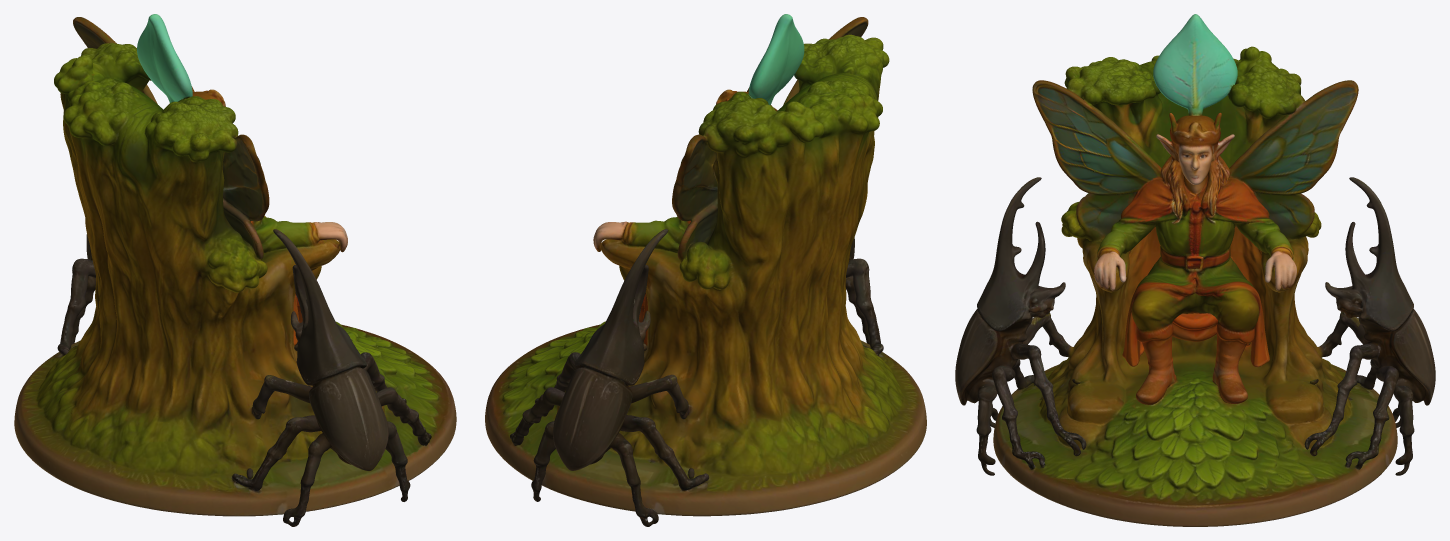
3 views of the same model, side by side, from view 1: azimuth 30°, elevation 25°; view 2: azimuth 150°, elevation 25°; view 3: azimuth 270°, elevation 25° (orthographic). The views are drawn at different scales.
Visible parts, largest first — view 1: tripo_node_f82668c3-42af-4208-bc07-dbffd2a7e66f; view 2: tripo_node_f82668c3-42af-4208-bc07-dbffd2a7e66f; view 3: tripo_node_f82668c3-42af-4208-bc07-dbffd2a7e66f.
Part boxes in pixels (box(x1,y1,x2,y2)): tripo_node_f82668c3-42af-4208-bc07-dbffd2a7e66f: box(14, 14, 456, 526); tripo_node_f82668c3-42af-4208-bc07-dbffd2a7e66f: box(485, 14, 926, 526); tripo_node_f82668c3-42af-4208-bc07-dbffd2a7e66f: box(955, 14, 1435, 526).
Bounding box in the file's own units: 0.8424 × 0.9201 × 1.
1 material, 1 textured.
